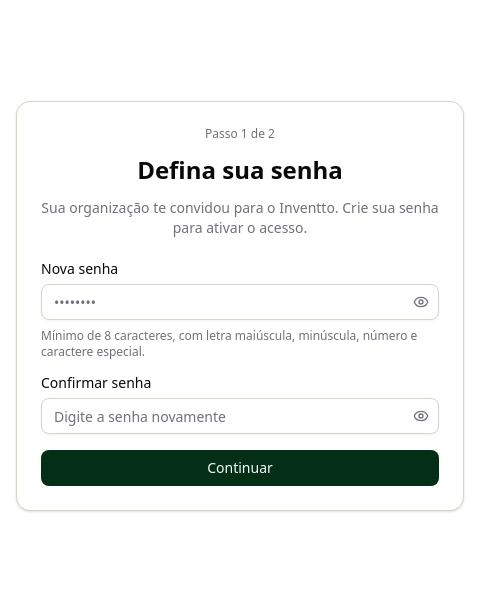
Scenario: FirstAccessPage › Passo 1 — definir senha › should advance to OTP step on successful P1 submit
Type "Senha@123!" into the password field labelled "Nova senha" at (240, 302), box x1=41 y1=284 x2=439 y2=320
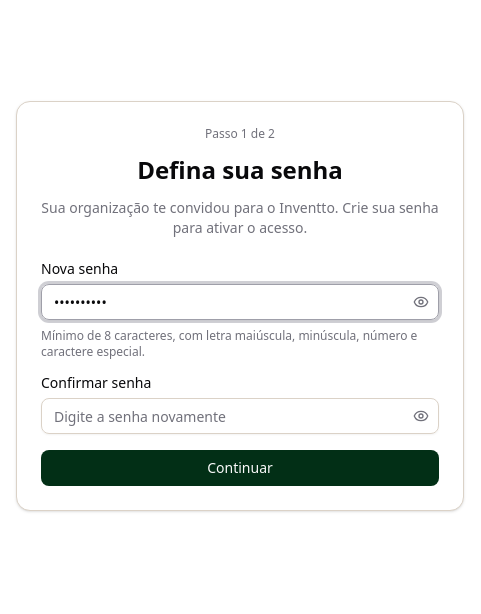
Type "Senha@123!" into the password field labelled "Confirmar senha" at (240, 416), box x1=41 y1=398 x2=439 y2=434
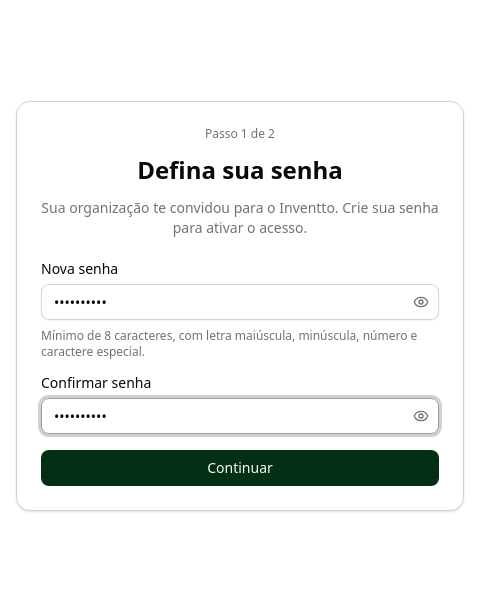
Click the button "Continuar" at (240, 468), box x1=41 y1=450 x2=439 y2=486
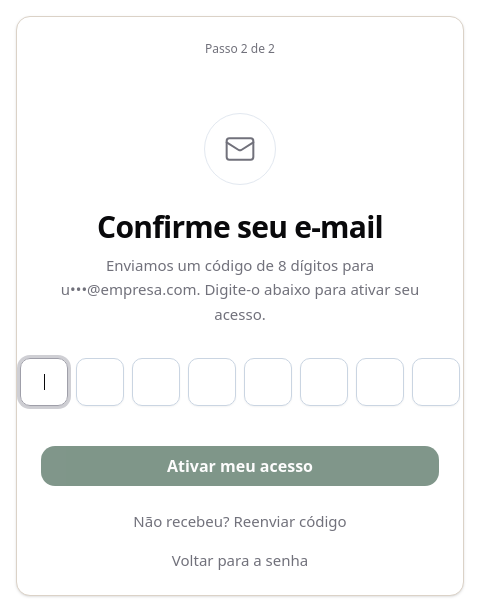
Check: the heading "Confirme seu e-mail" is shown, box x1=97 y1=209 x2=383 y2=245
Check: the text "Passo 2 de 2" is shown, box x1=205 y1=40 x2=275 y2=57
